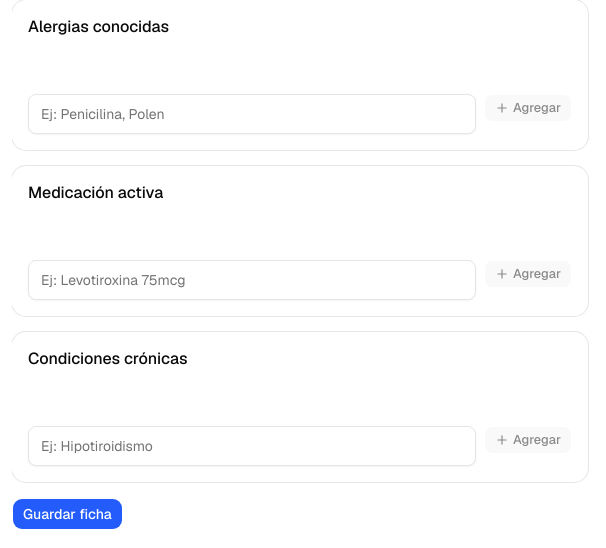
Scenario: HealthTab › can add an allergy chip
In the field named "nueva entrada de alergias": point(252, 114) [28,94,476,134], type "Penicilina"
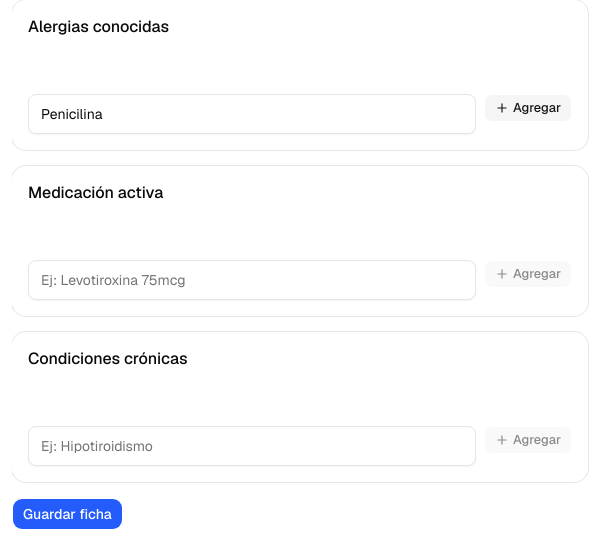
Click the button with aria-label "agregar alergias": point(528, 108) [484,94,572,122]
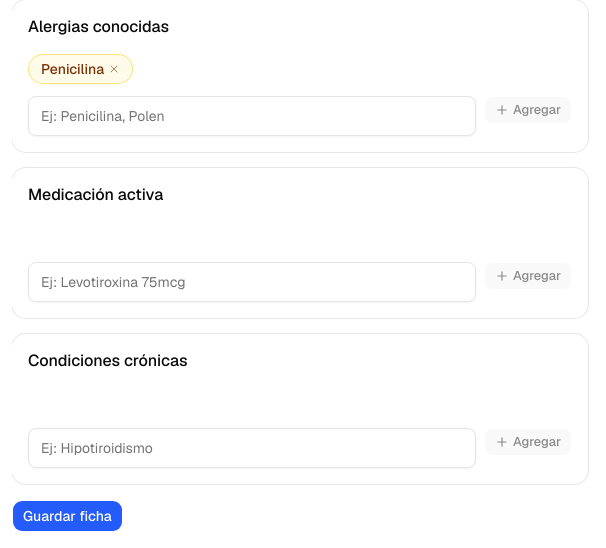
Now the text "Penicilina" is shown, box [28,54,133,84]
